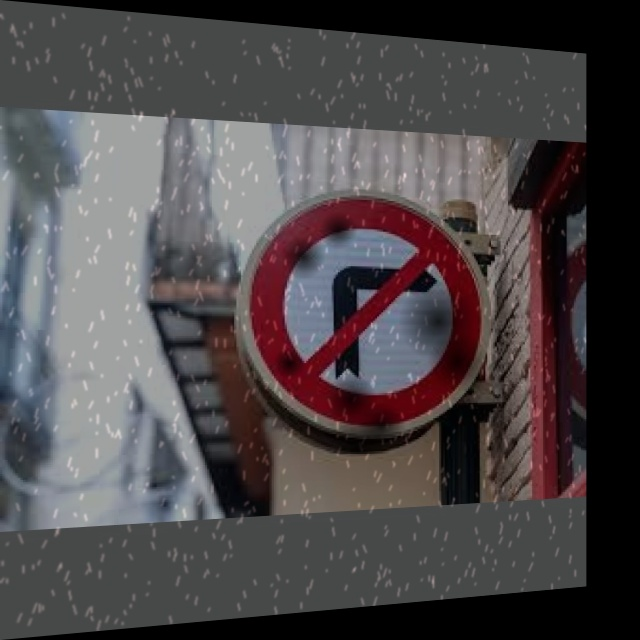Right_Turn_Prohibited: (241, 186, 485, 454)
